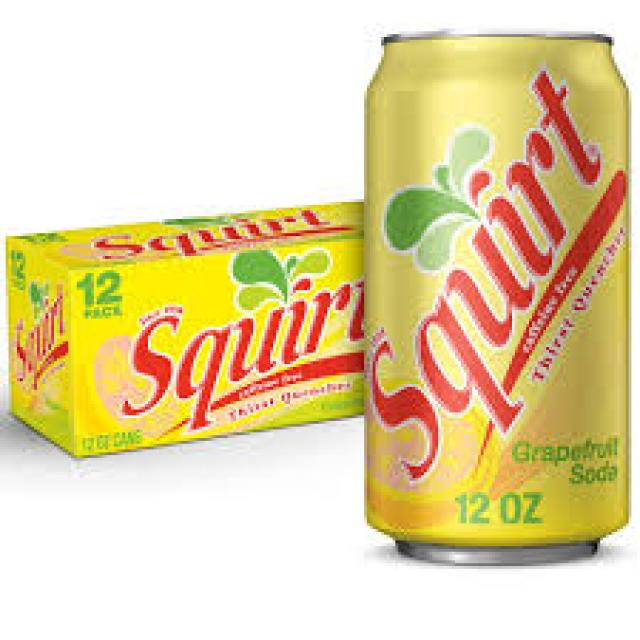Cans: (352, 14, 640, 566)
